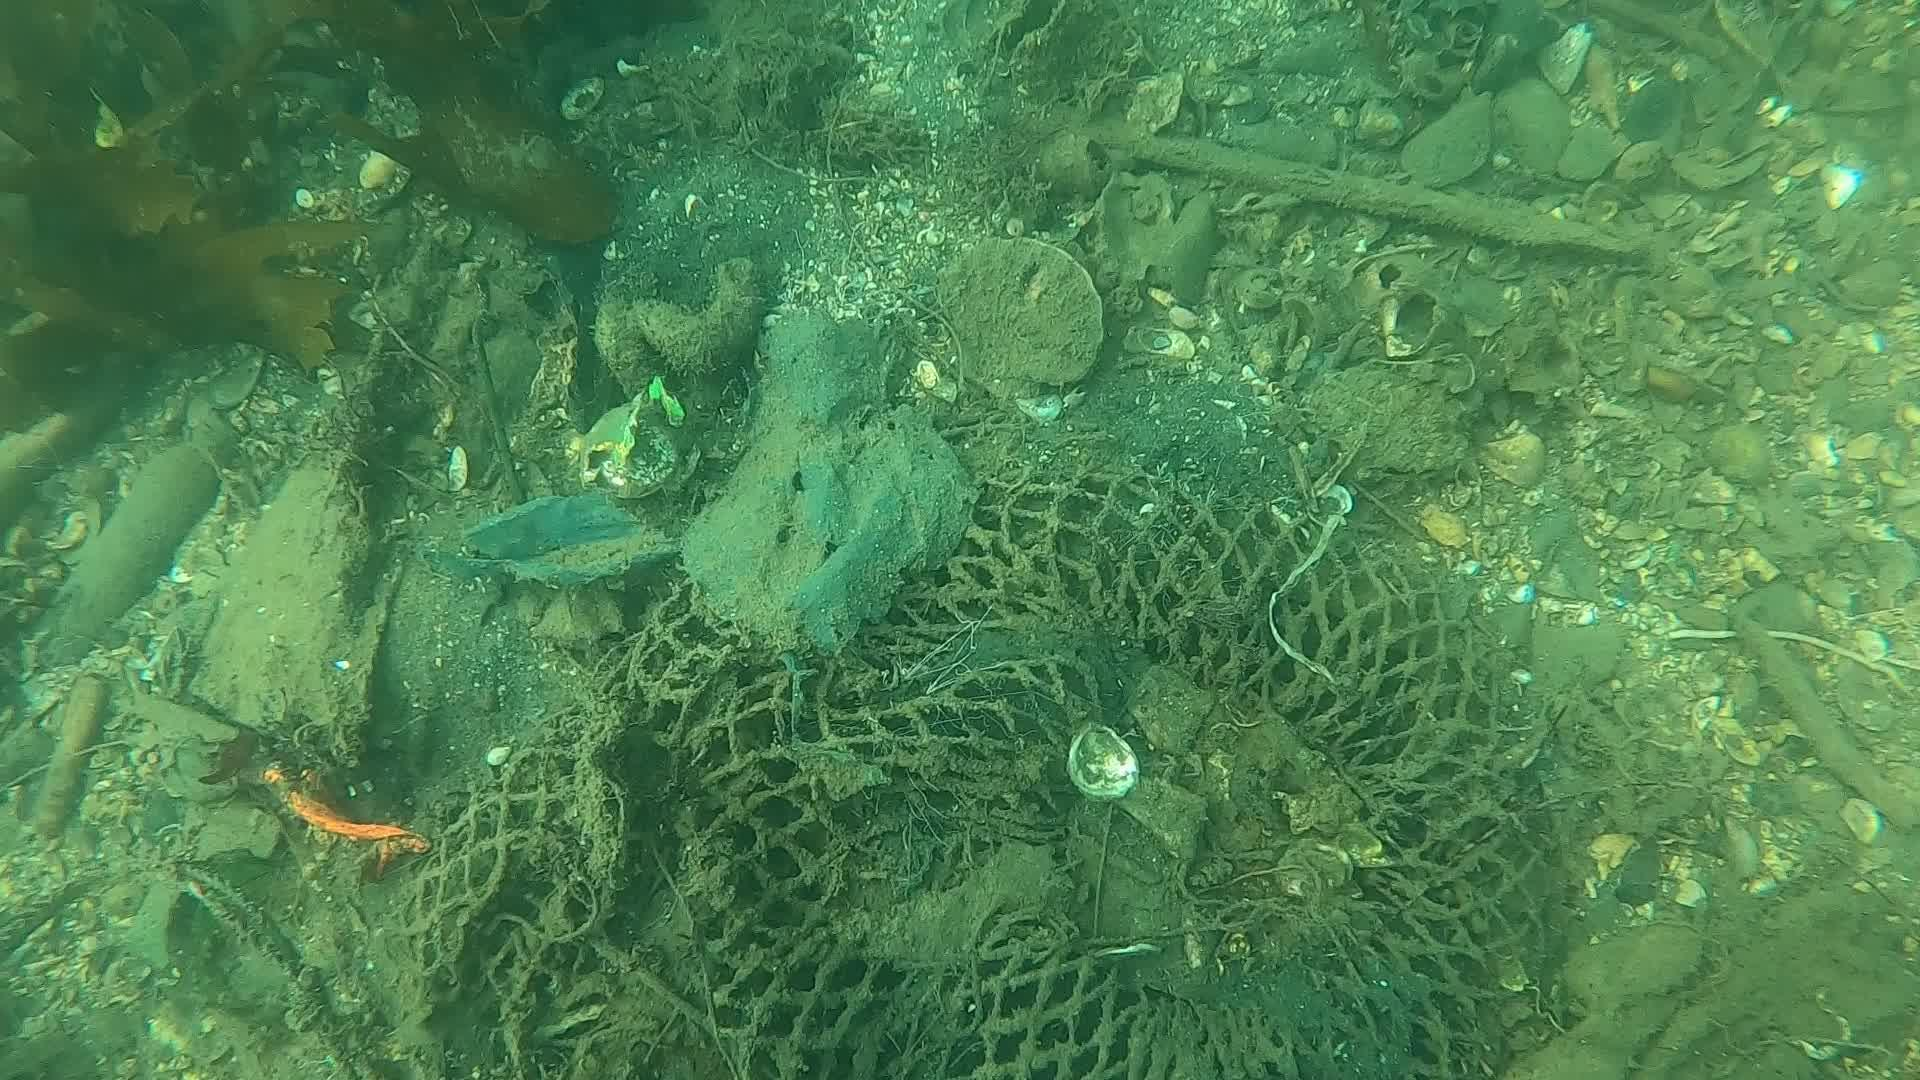fish net: (382, 462, 1572, 1080)
